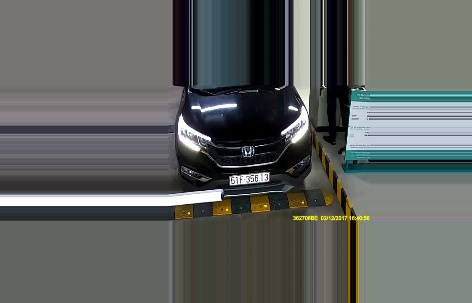plate: (226, 169, 267, 187)
